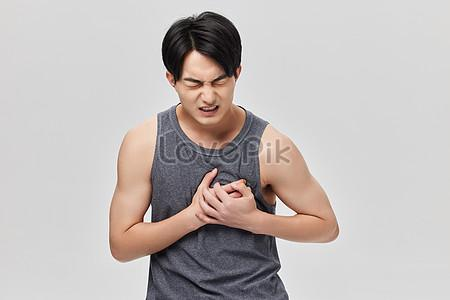pain: (176, 71, 237, 92)
